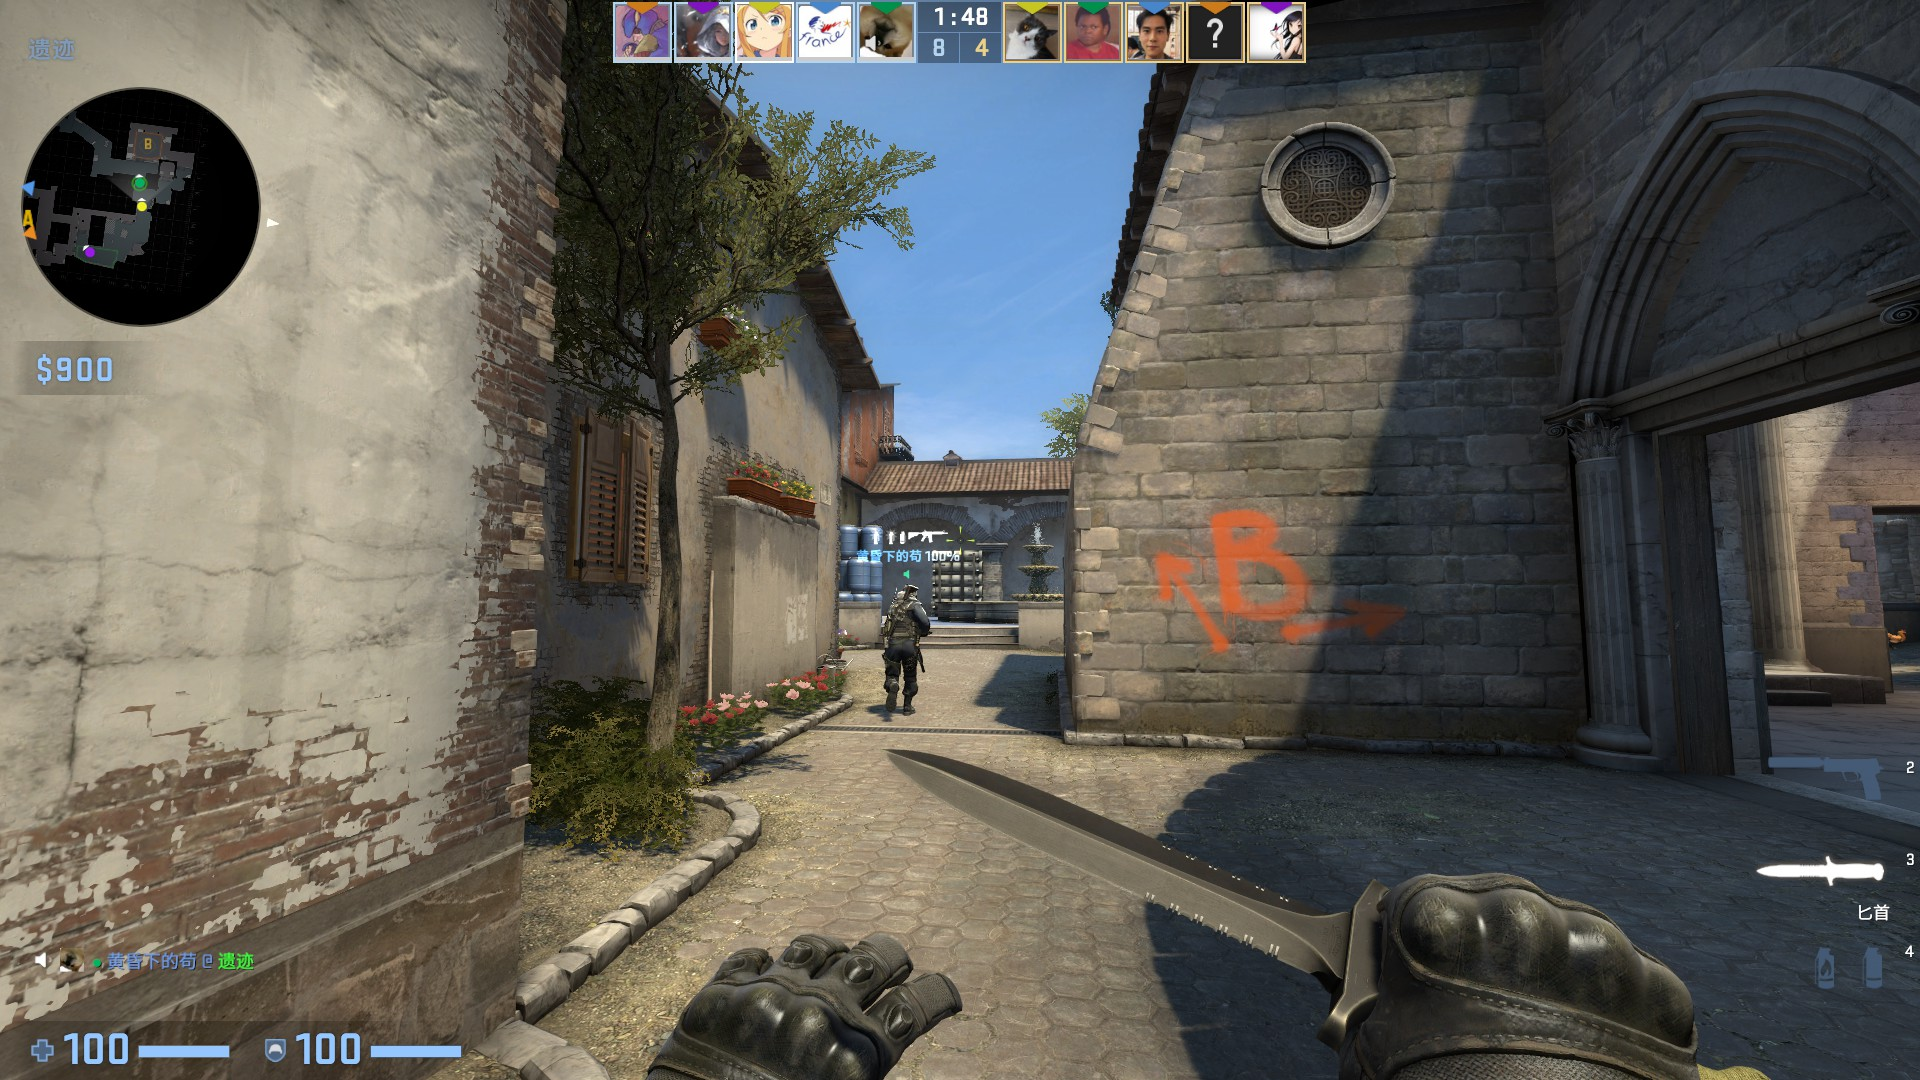head: (896, 583, 918, 604)
